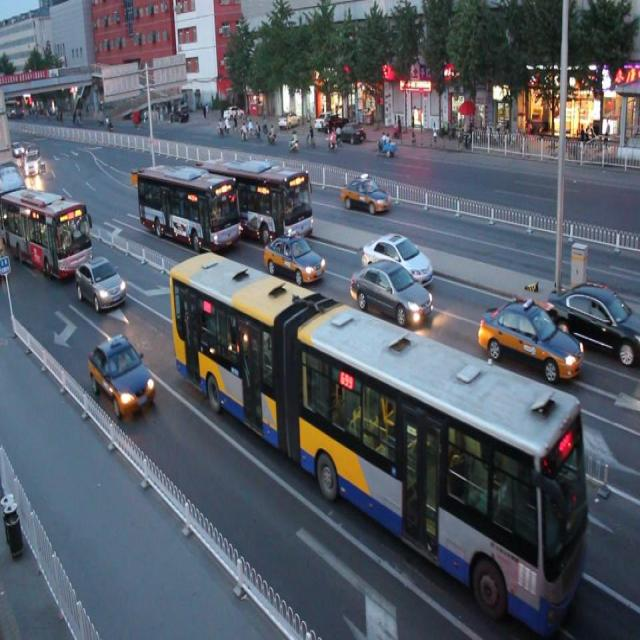car: (477, 294, 582, 382), (549, 279, 640, 366), (348, 257, 432, 328), (87, 331, 156, 417), (360, 228, 432, 290), (261, 231, 324, 286), (75, 255, 126, 312), (338, 171, 390, 217), (166, 166, 197, 193)
van: (169, 250, 586, 631), (199, 153, 313, 246), (137, 164, 240, 251), (1, 186, 92, 279)
